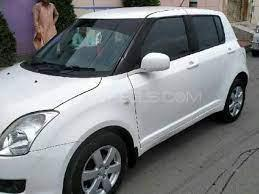Hatchback: (0, 6, 249, 193)
